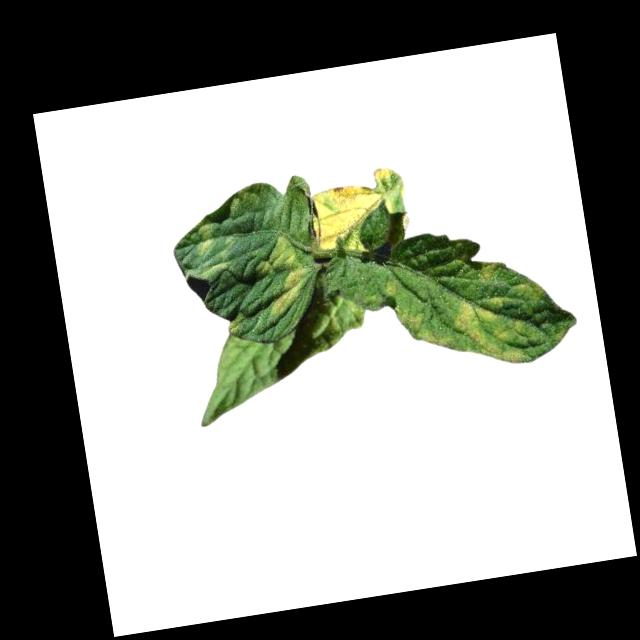Leaf_Mold: (446, 253, 552, 373), (303, 164, 412, 260), (252, 232, 315, 322)
